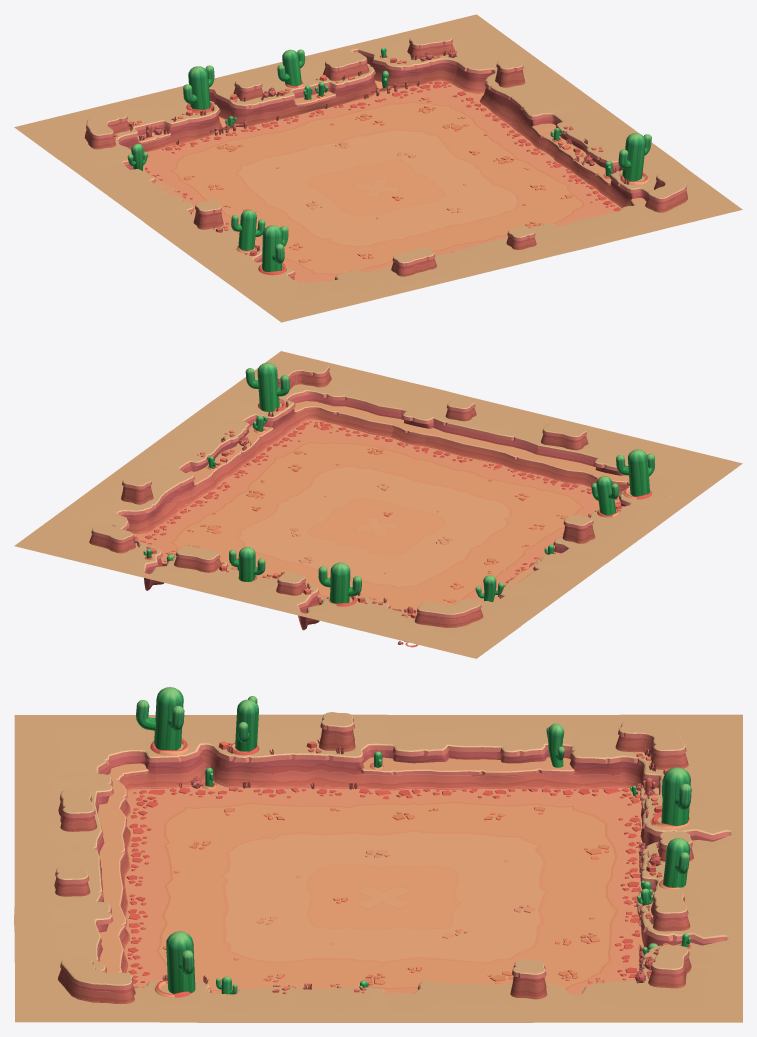
The model's file is showdown.glb.
3 views of the same model, one above another, from view 1: azimuth 30°, elevation 25°; view 2: azimuth 150°, elevation 25°; view 3: azimuth 270°, elevation 25° (orthographic). The views are drawn at different scales.
Visible parts, largest first — view 1: Merged Objects_1, Plane_028-mesh_cms_0, cactus_2; view 2: Merged Objects_1, Plane_028-mesh_cms_0, cactus_2; view 3: Merged Objects_1, Plane_028-mesh_cms_0, cactus_2.
Boxes of the visible parts, left/top/right/bottom form: Merged Objects_1: left=14, top=14, right=742, bottom=322; Plane_028-mesh_cms_0: left=143, top=80, right=621, bottom=282; cactus_2: left=127, top=47, right=651, bottom=271; Merged Objects_1: left=14, top=351, right=742, bottom=658; Plane_028-mesh_cms_0: left=133, top=419, right=620, bottom=613; cactus_2: left=143, top=362, right=654, bottom=603; Merged Objects_1: left=14, top=712, right=742, bottom=1022; Plane_028-mesh_cms_0: left=124, top=779, right=643, bottom=994; cactus_2: left=136, top=687, right=691, bottom=994.
Bounding box in the file's own units: 0.4711 × 0.066 × 0.4711.
2 materials, 2 textured.
